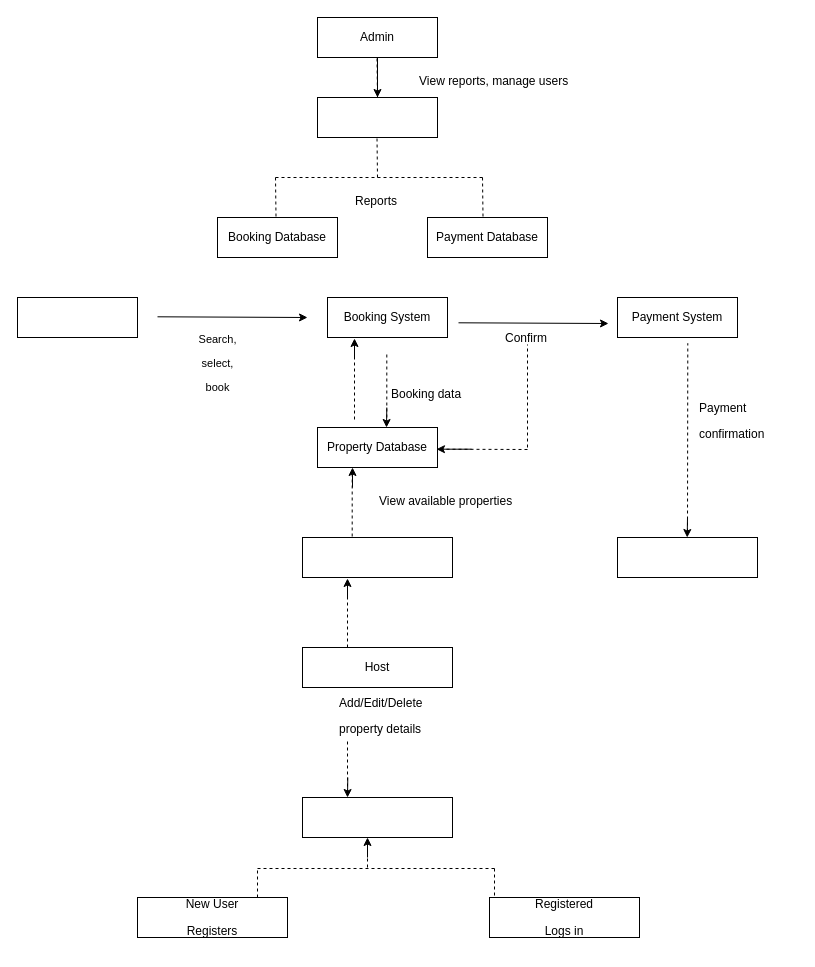
Image size: 815x967. Some labels were removed from this diagram. Here are the shapes that lost their labels. From the top down, the box of each, then its label:
(316, 96, 438, 138): Admin dashboard
(16, 296, 138, 338): Guest
(302, 536, 452, 578): Property Management
(616, 536, 758, 578): Payment Gateway(API)
(302, 796, 452, 838): User Management
